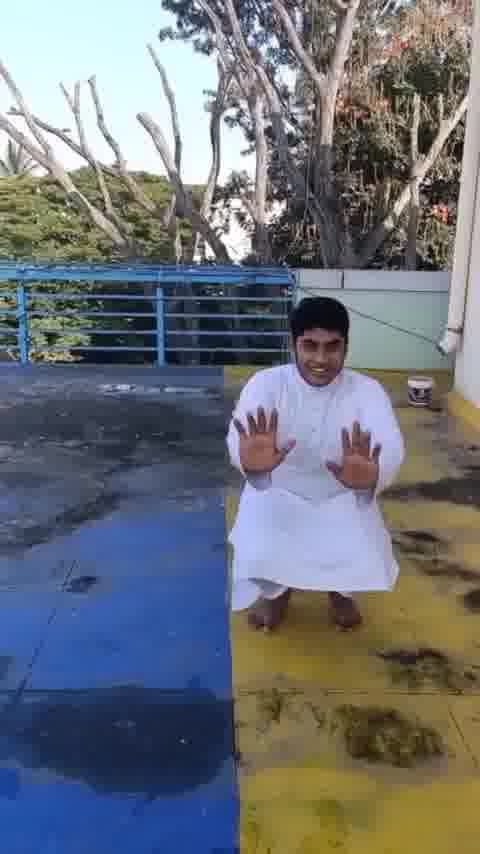duck: (218, 284, 405, 641)
